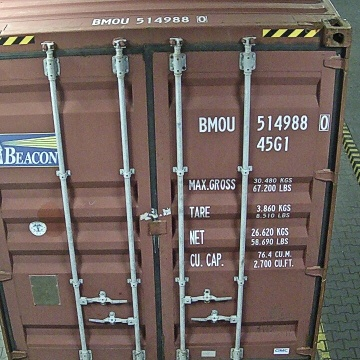serial_id: (199, 114, 330, 131)
